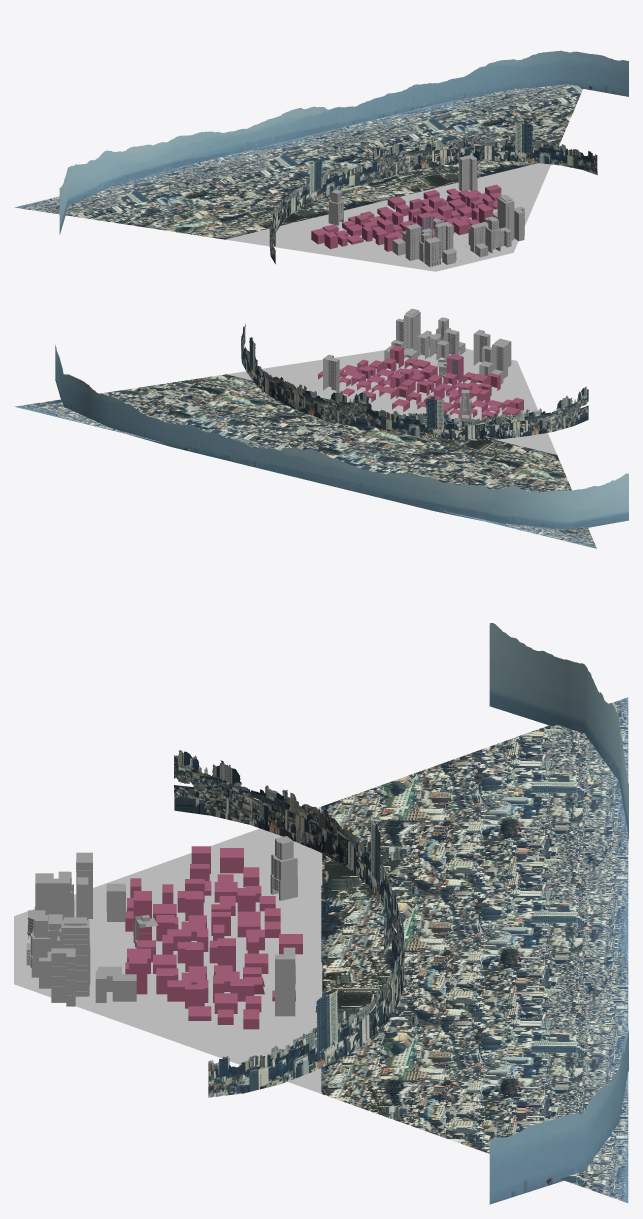
Rendered from cities.fbx.
3 renders of one model, top to bottom at view 1: azimuth 30°, elevation 25°; view 2: azimuth 150°, elevation 25°; view 3: azimuth 270°, elevation 25°, orthographic. The views are drawn at different scales.
Parts seen in each view (by area): view 1: polySurface40, pPlane3, pPlane2, pPlane4, polySurface140, polySurface57, polySurface55, polySurface146, polySurface52, polySurface48, polySurface61, polySurface51; view 2: polySurface40, pPlane3, pPlane4, pPlane2, polySurface140, polySurface55, polySurface57, polySurface48, polySurface41, polySurface146; view 3: polySurface40, pPlane3, pPlane4, pPlane2, polySurface146, polySurface51, polySurface140, polySurface55, polySurface61, polySurface48.
Boxes of the visible parts, <box> form: polySurface40: <box>14,84,583,271</box>; pPlane3: <box>59,50,628,234</box>; pPlane2: <box>372,121,597,182</box>; pPlane4: <box>269,158,383,264</box>; polySurface140: <box>458,154,477,191</box>; polySurface57: <box>405,223,421,260</box>; polySurface55: <box>497,194,514,229</box>; polySurface146: <box>328,189,343,225</box>; polySurface52: <box>424,237,441,267</box>; polySurface48: <box>434,222,453,258</box>; polySurface61: <box>486,217,500,253</box>; polySurface51: <box>514,206,524,241</box>; polySurface40: <box>15,348,596,548</box>; pPlane3: <box>55,345,628,529</box>; pPlane4: <box>362,386,588,440</box>; pPlane2: <box>241,324,368,427</box>; polySurface140: <box>323,354,339,392</box>; polySurface55: <box>403,308,420,343</box>; polySurface57: <box>492,341,508,378</box>; polySurface48: <box>473,329,490,365</box>; polySurface41: <box>447,354,463,382</box>; polySurface146: <box>459,389,471,419</box>; polySurface40: <box>14,697,628,1202</box>; pPlane3: <box>489,623,628,1204</box>; pPlane4: <box>174,750,392,955</box>; pPlane2: <box>208,892,404,1097</box>; polySurface146: <box>270,836,297,900</box>; polySurface51: <box>51,948,75,1006</box>; polySurface140: <box>275,947,295,1016</box>; polySurface55: <box>59,917,89,975</box>; polySurface61: <box>30,915,51,977</box>; polySurface48: <box>50,871,70,920</box>.
Size of the model in its own units: 239 by 28.38 by 123.
